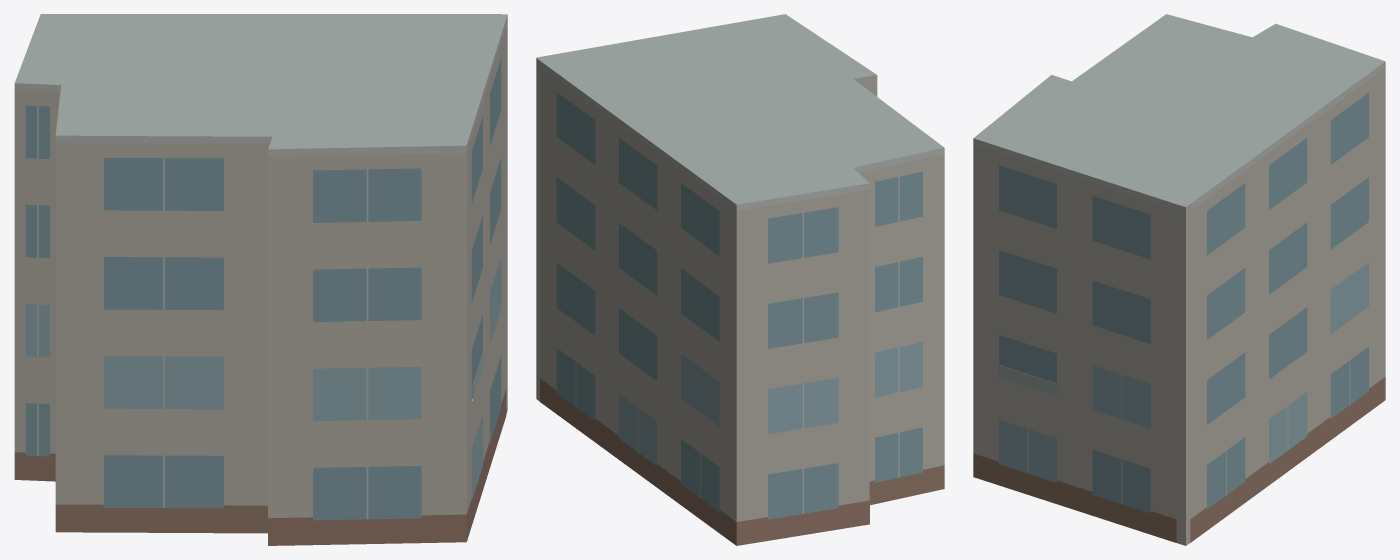
The model's file is survey-upis-32815123.glb.
3 renders of one model, left to right at view 1: azimuth 30°, elevation 25°; view 2: azimuth 150°, elevation 25°; view 3: azimuth 270°, elevation 25°, orthographic. The views are drawn at different scales.
Visible parts, largest first — view 1: survey-upis-32815123.tmp; view 2: survey-upis-32815123.tmp; view 3: survey-upis-32815123.tmp.
Boxes of the visible parts, box(x1,y1,x2,y2) form: survey-upis-32815123.tmp: box(14, 14, 507, 545); survey-upis-32815123.tmp: box(536, 14, 944, 545); survey-upis-32815123.tmp: box(973, 14, 1385, 545).
Bounding box in the file's own units: 16.02 × 13.1 × 14.46.
